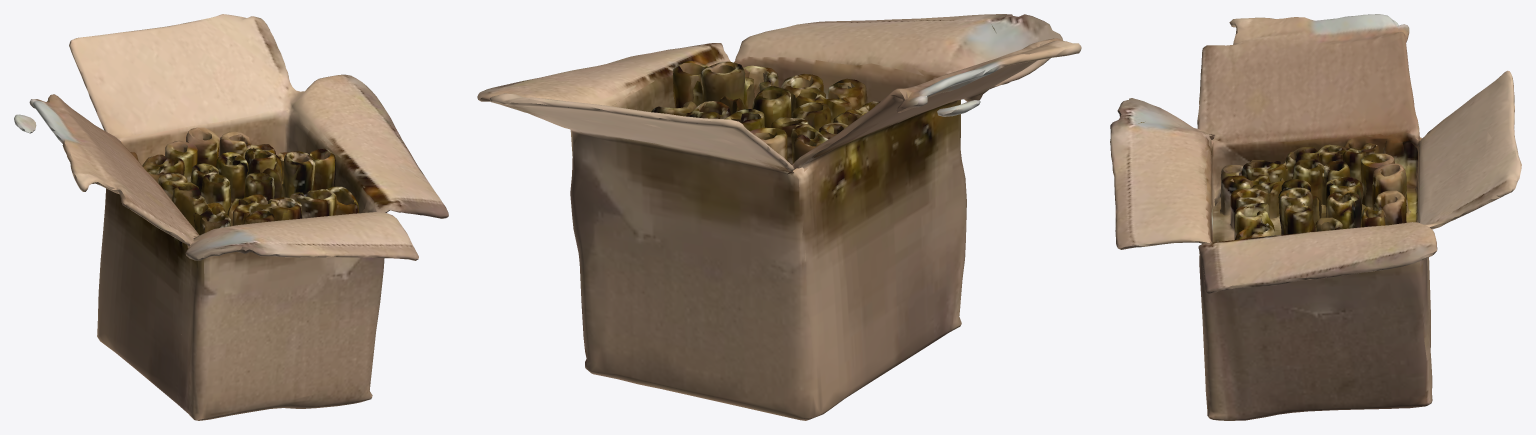
Rendered from stunner-cartridges.glb.
3 renders of one model, left to right at view 1: azimuth 30°, elevation 25°; view 2: azimuth 150°, elevation 25°; view 3: azimuth 270°, elevation 25°, orthographic. The views are drawn at different scales.
Parts seen in each view (by area): view 1: cowninja-stunner-cartridges; view 2: cowninja-stunner-cartridges; view 3: cowninja-stunner-cartridges.
Part boxes in pixels (x1,y1,x2,y2): cowninja-stunner-cartridges: [14, 14, 448, 420]; cowninja-stunner-cartridges: [477, 14, 1081, 420]; cowninja-stunner-cartridges: [1110, 14, 1521, 420].
Size of the model in its own units: 0.15 by 0.1117 by 0.1436.
Materials: 1 (1 with a texture image).
